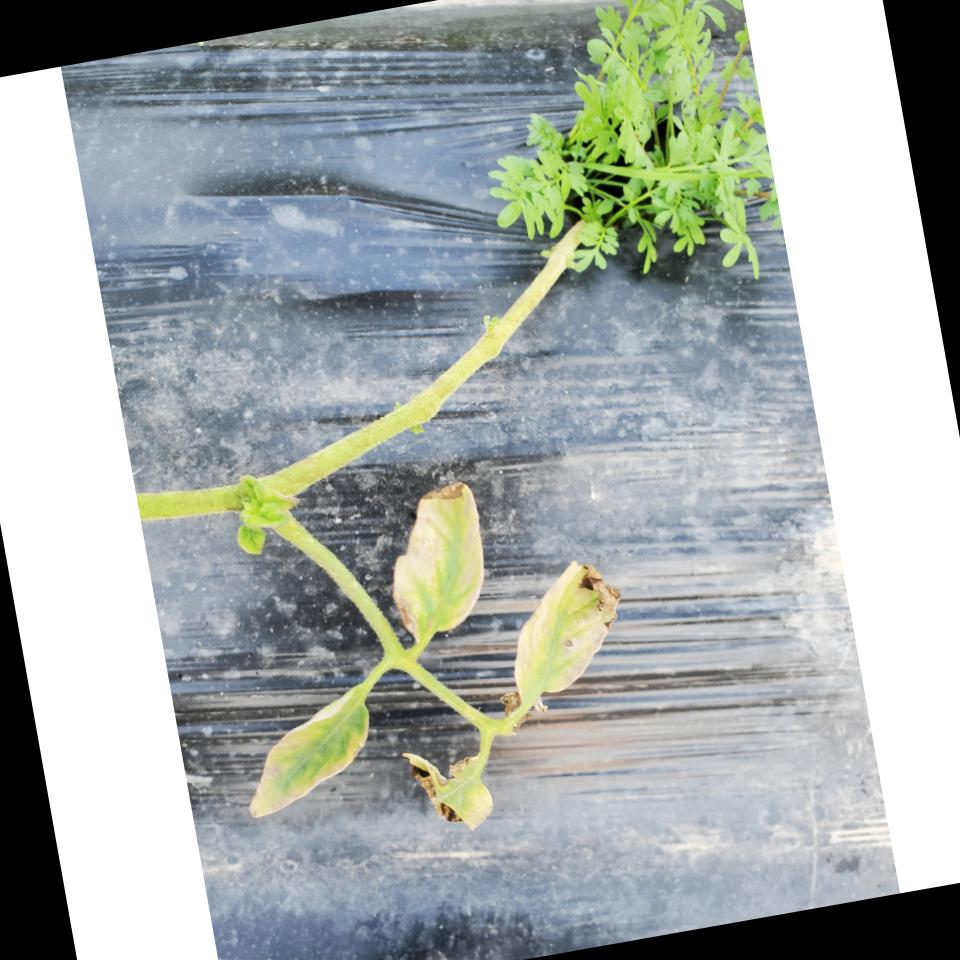tomato_yellow_leaf_curl_virus: (372, 470, 504, 670), (504, 563, 646, 717), (230, 684, 390, 812)
